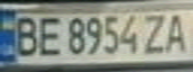4: (118, 11, 142, 56)
5: (103, 11, 124, 55)
8: (63, 14, 87, 56)
9: (81, 12, 106, 56)
A: (160, 10, 193, 55)
B: (9, 14, 42, 57)
E: (33, 12, 63, 57)
Z: (139, 10, 172, 55)
